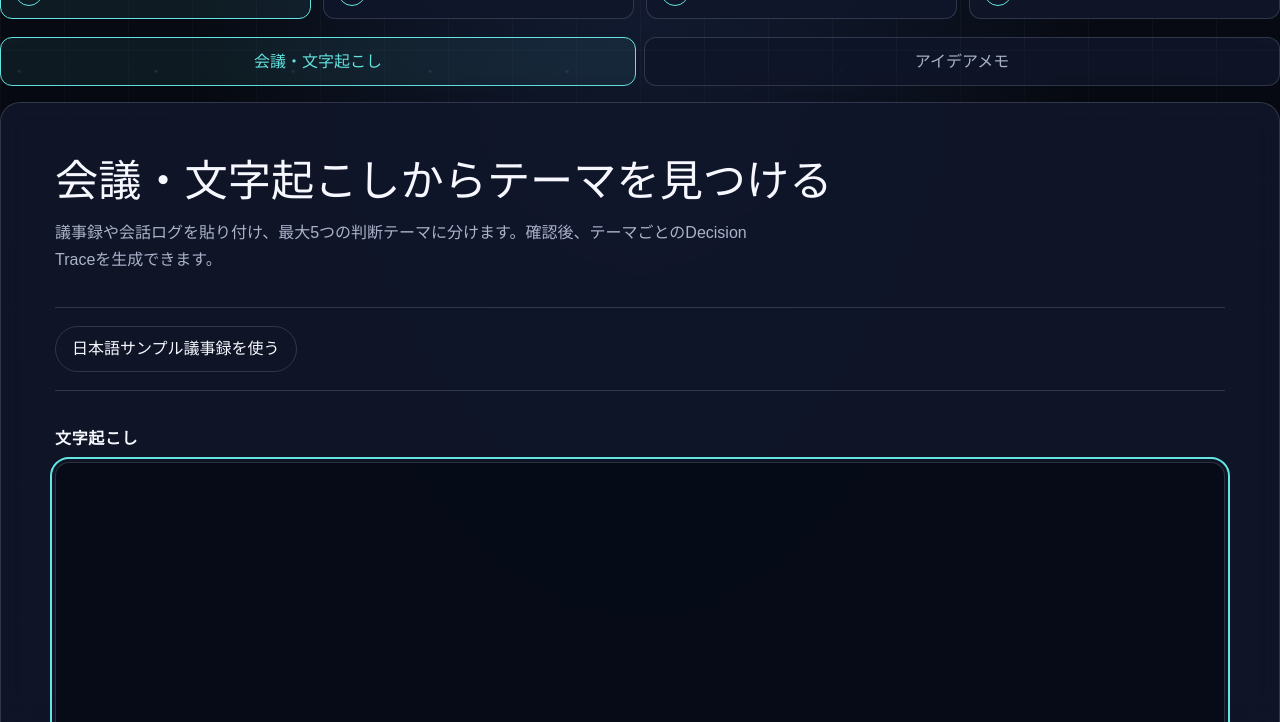
Test: DecisionTraceApp › retains the memo and offers retry guidance after 429
Click the button "アイデアメモ" at x=962, y=62, box [644, 37, 1279, 86]
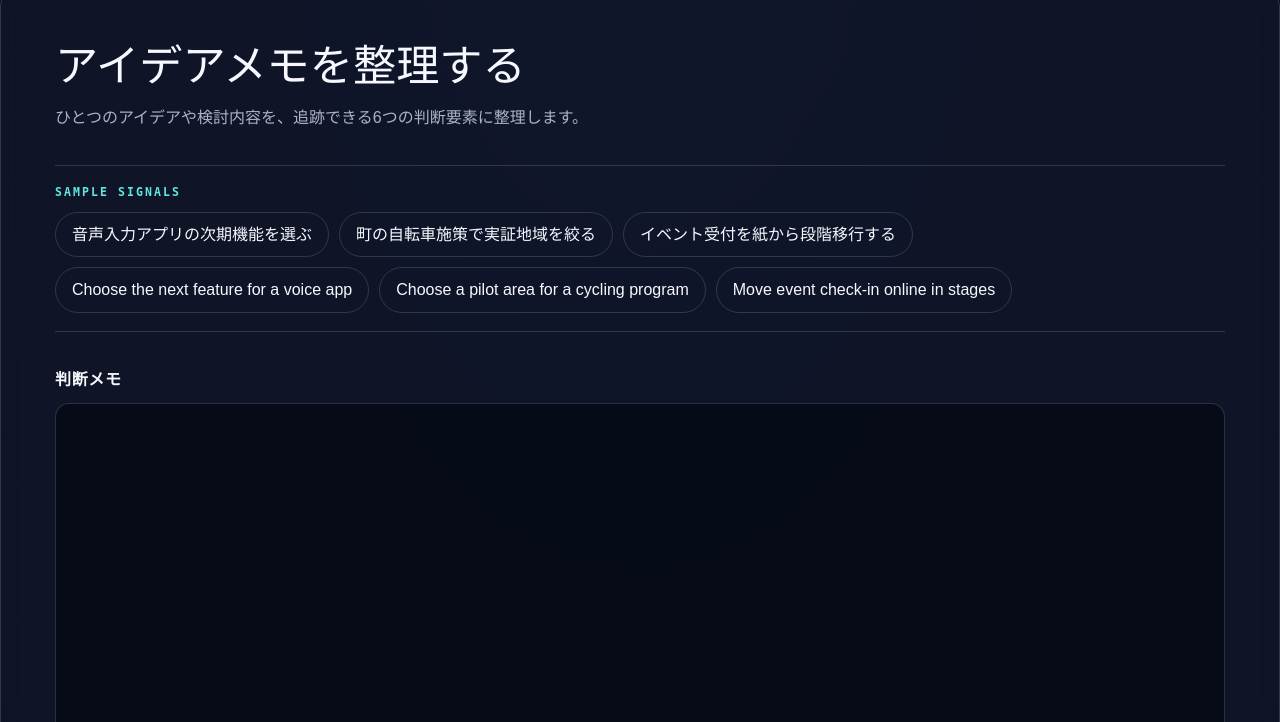
Click the button "町の自転車施策で実証地域を絞る" at x=476, y=235, box [339, 212, 613, 257]
(page scrolled)
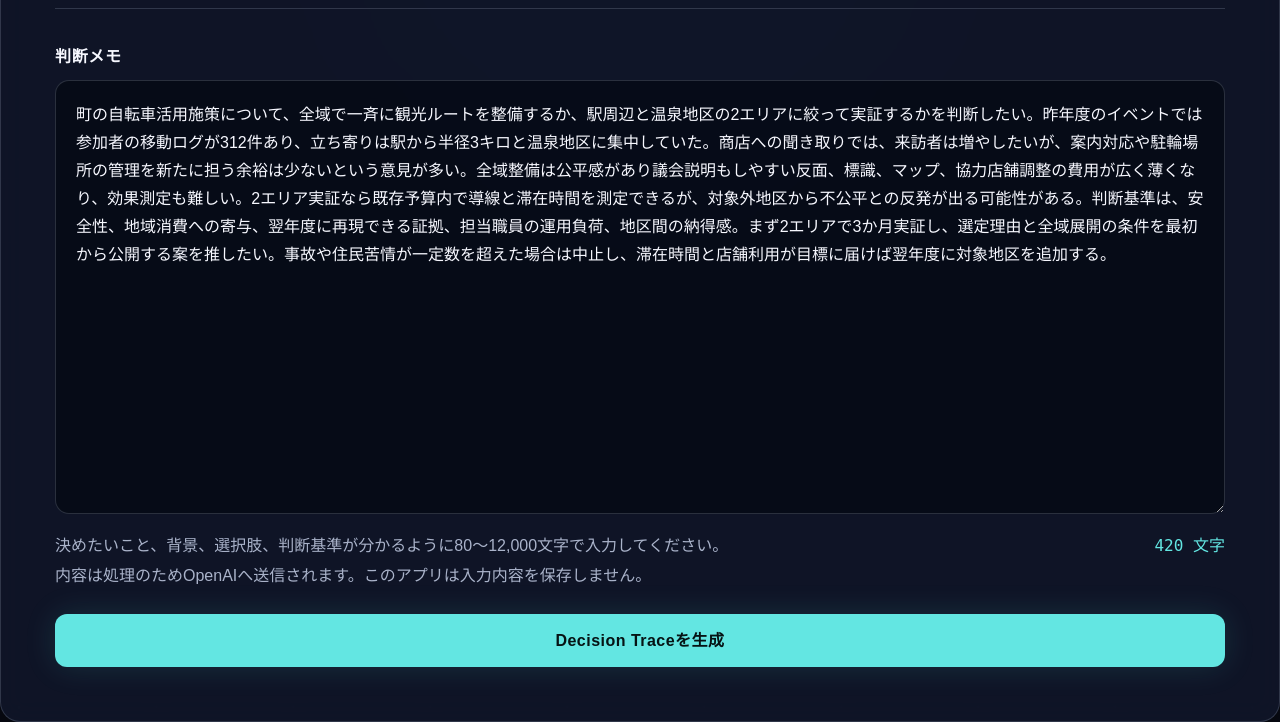
Click the button "Decision Traceを生成" at x=640, y=641, box [55, 614, 1225, 668]
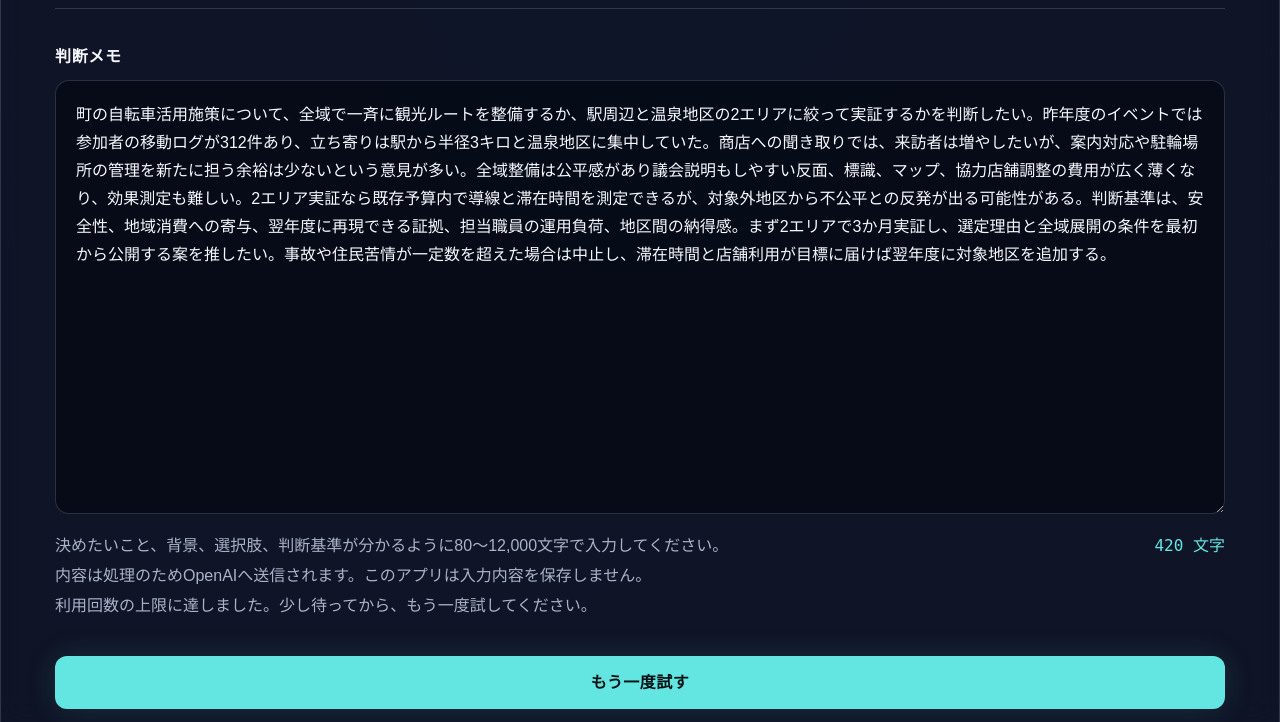
Result: the text box labelled "判断メモ" holds "町の自転車活用施策について、全域で一斉に観光ルートを整備するか、駅周辺と温泉地区の2エリアに絞って実証するかを判断したい。昨年度のイベントでは参加者の移動ログが312件あり、立ち寄りは駅から半径3キロと温泉地区に集中していた。商店への聞き取りでは、来訪者は増やしたいが、案内対応や駐輪場所の管理を新たに担う余裕は少ないと" at [55, 80, 1225, 514]
Result: the message shows "利用回数の上限" at [55, 597, 597, 614]
Result: the button "もう一度試す" is shown at [55, 656, 1225, 709]
